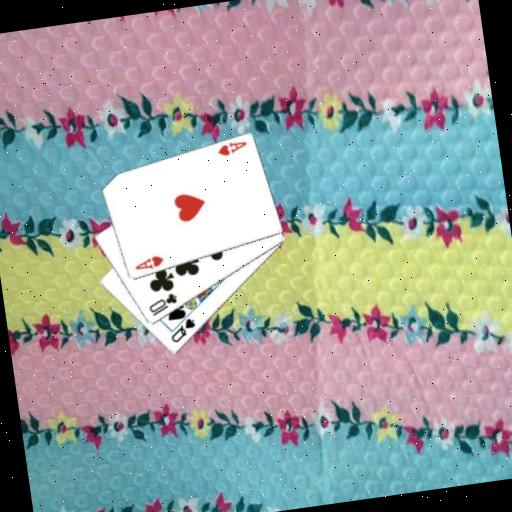10C: (144, 290, 181, 319)
AH: (214, 138, 250, 160), (131, 252, 167, 273)
QS: (165, 315, 199, 345)
